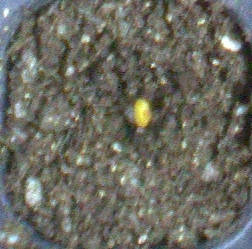pepper seed: (55, 33, 207, 163)
